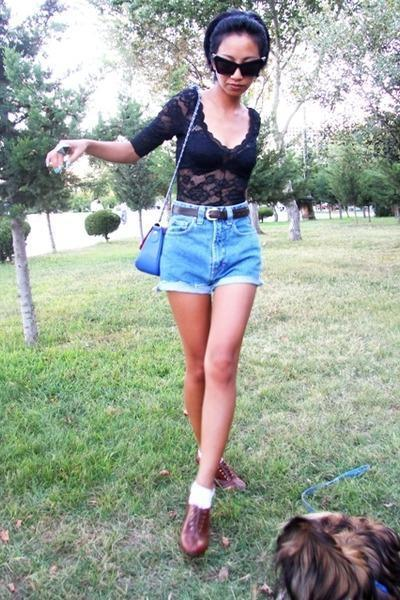bag: (135, 224, 189, 275)
hat: (204, 0, 271, 64)
shirt: (132, 87, 262, 203)
shoe: (173, 461, 240, 563)
shorts: (152, 204, 262, 292)
sunglass: (213, 56, 251, 76)
